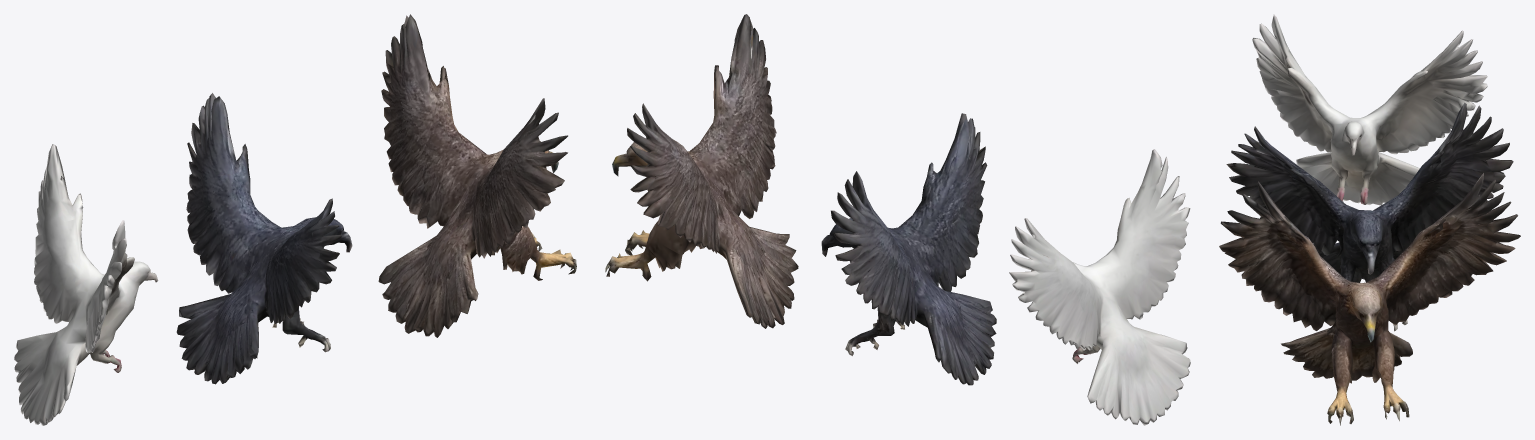
The model's file is birds.glb.
The picture shows the model from 3 angles, left to right: view 1: azimuth 30°, elevation 25°; view 2: azimuth 150°, elevation 25°; view 3: azimuth 270°, elevation 25°; orthographic projection. The views are drawn at different scales.
Visible parts, largest first — view 1: eagle, crow, dove; view 2: eagle, dove, crow; view 3: eagle, dove, crow.
Part boxes in pixels (x1=…): eagle: x1=378, y1=14, x2=576, y2=337; crow: x1=176, y1=93, x2=352, y2=384; dove: x1=14, y1=144, x2=158, y2=425; eagle: x1=605, y1=14, x2=798, y2=328; dove: x1=1009, y1=149, x2=1190, y2=425; crow: x1=821, y1=113, x2=996, y2=385; eagle: x1=1219, y1=173, x2=1520, y2=425; dove: x1=1252, y1=14, x2=1487, y2=205; crow: x1=1226, y1=102, x2=1513, y2=331.
Bounding box in the file's own units: 0.7066 × 0.3149 × 0.3566.
1 material, 1 textured.
